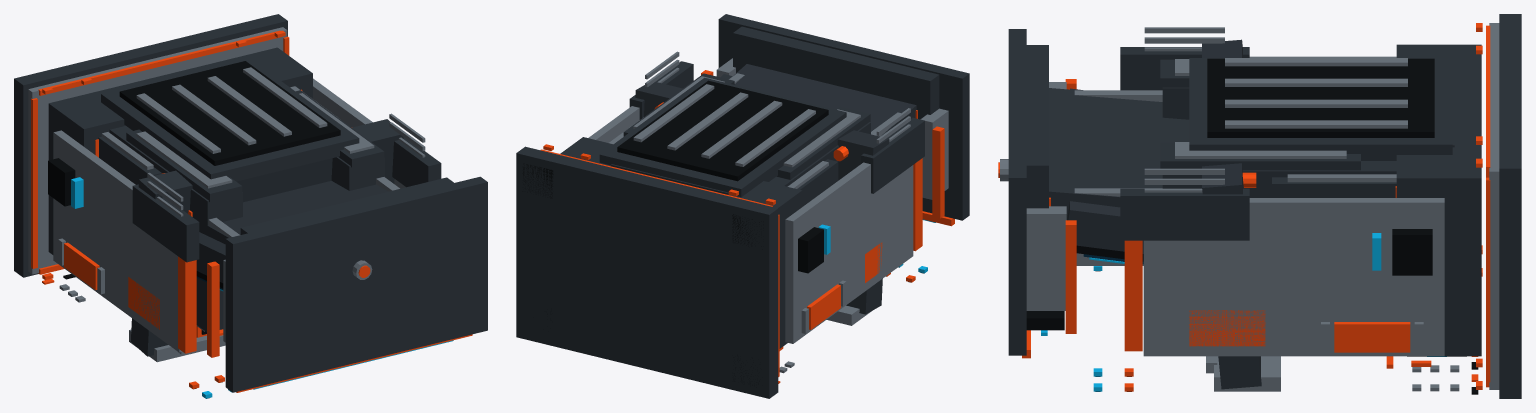
File: DispatchTerminal.obj
3 views of the same model, side by side, from view 1: azimuth 30°, elevation 25°; view 2: azimuth 150°, elevation 25°; view 3: azimuth 270°, elevation 25° (orthographic). The views are drawn at different scales.
Parts seen in each view (by area): view 1: FICSIT_Dispatch_Terminal_Deluxe; view 2: FICSIT_Dispatch_Terminal_Deluxe; view 3: FICSIT_Dispatch_Terminal_Deluxe.
Part boxes in pixels (x1=…): FICSIT_Dispatch_Terminal_Deluxe: x1=14, y1=14, x2=487, y2=398; FICSIT_Dispatch_Terminal_Deluxe: x1=516, y1=14, x2=969, y2=398; FICSIT_Dispatch_Terminal_Deluxe: x1=998, y1=14, x2=1521, y2=398.
Size of the model in its own units: 168 by 120 by 235.
